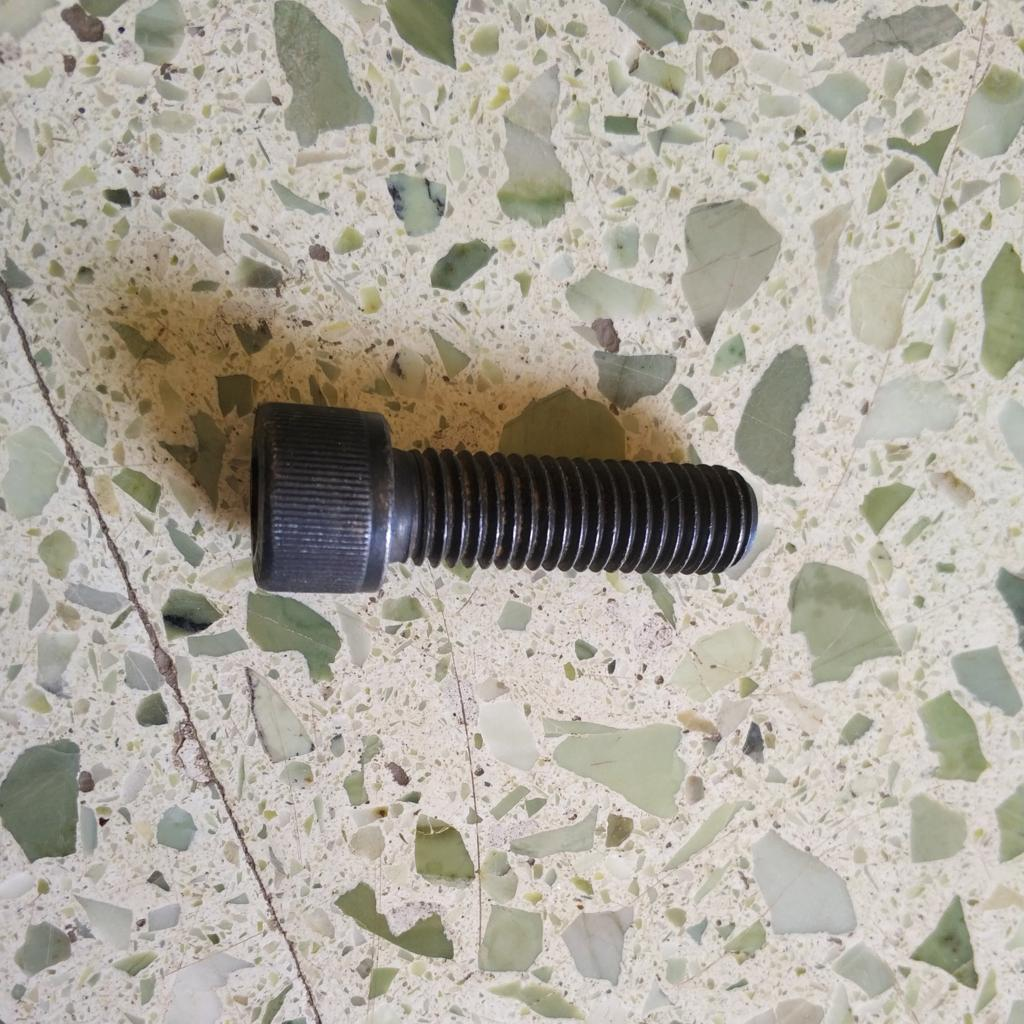screwtype1black: (245, 396, 760, 600)
